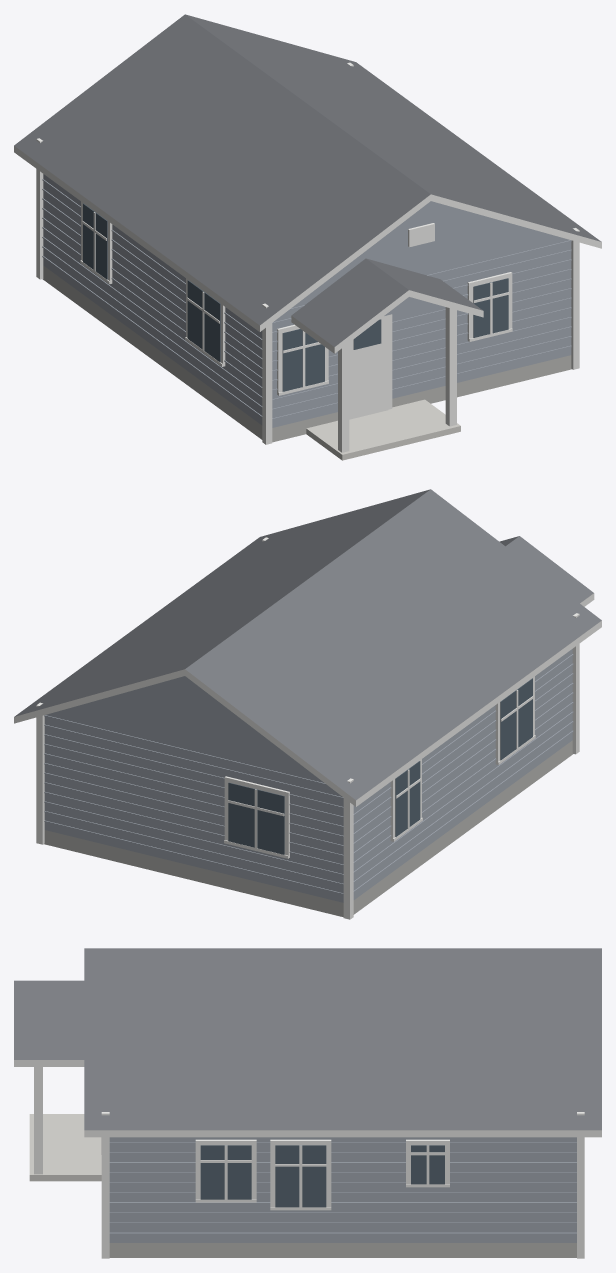
File: peach-cottage.glb
3 renders of one model, top to bottom at view 1: azimuth 30°, elevation 25°; view 2: azimuth 150°, elevation 25°; view 3: azimuth 270°, elevation 25°, orthographic. The views are drawn at different scales.
Visible parts, largest first — view 1: The Peach (cottage); view 2: The Peach (cottage); view 3: The Peach (cottage).
Part boxes in pixels (<box>): The Peach (cottage): <box>14,14,601,460</box>; The Peach (cottage): <box>14,489,601,919</box>; The Peach (cottage): <box>14,948,601,1258</box>.
Size of the model in its own units: 7.47 by 4.57 by 10.56.
